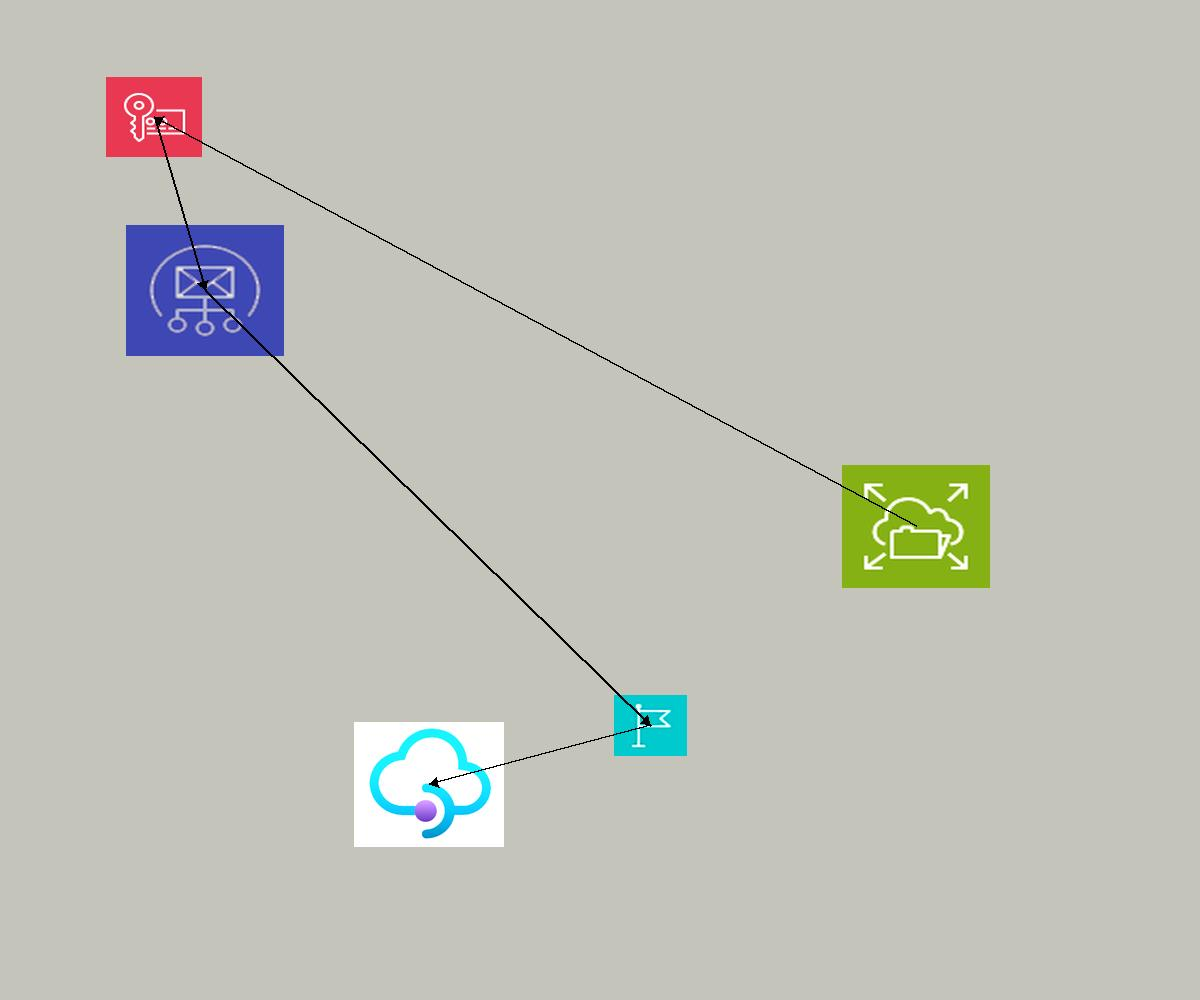AWS-EFS: (842, 465, 990, 588)
AWS-Key-Management-Service: (106, 77, 202, 157)
AWS-Region: (614, 695, 687, 756)
AWS-Simple-Email-Service: (126, 225, 284, 356)
Azure_api_gateway: (354, 722, 504, 847)
